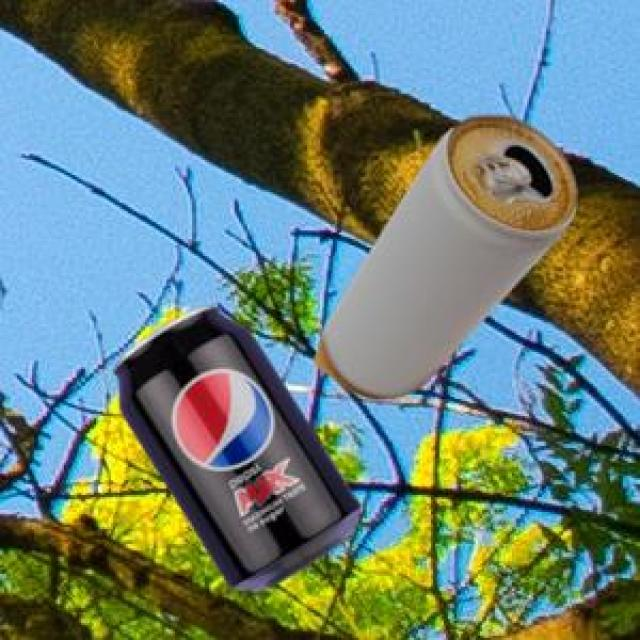logam: (310, 112, 573, 396), (112, 302, 357, 588)
